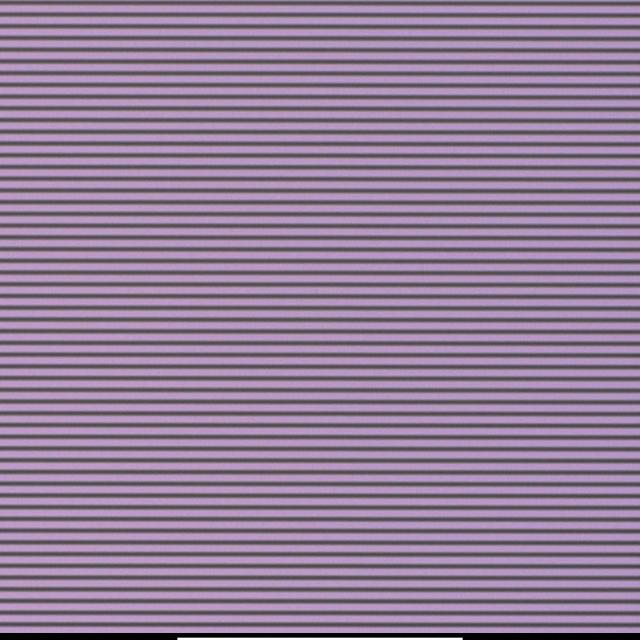nonvisual: (321, 322, 329, 331)
